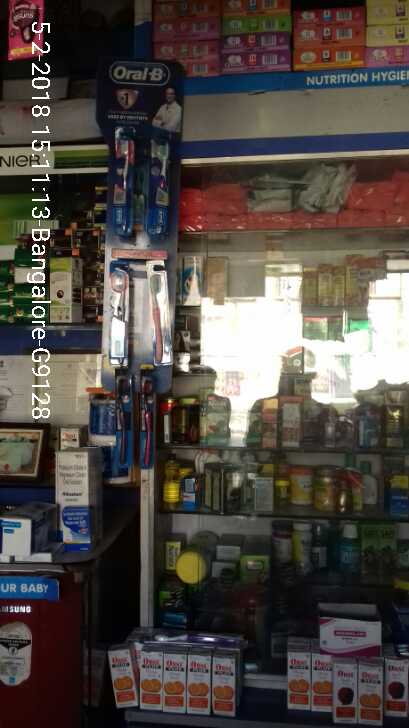oralb: (140, 136, 175, 232), (108, 252, 134, 364), (148, 271, 175, 358), (115, 133, 138, 233)
